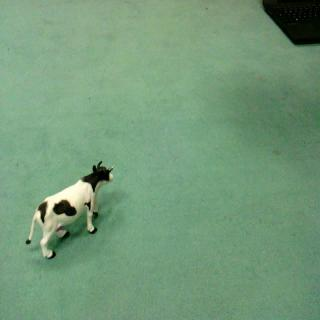cow: (26, 158, 119, 261)
